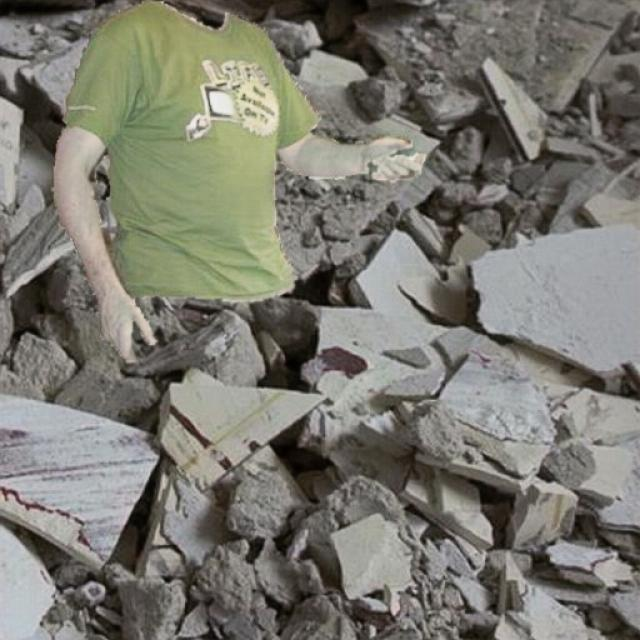Person in Rubble: (51, 1, 425, 364)
